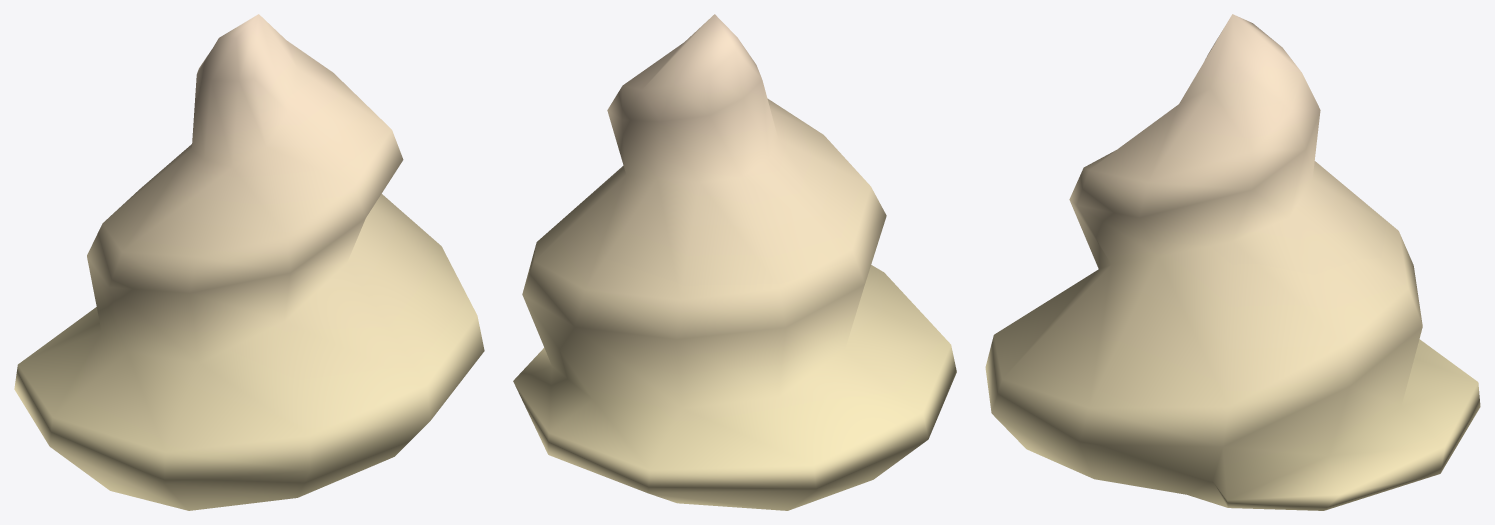
File: ShellD.fbx
The picture shows the model from 3 angles, left to right: view 1: azimuth 30°, elevation 25°; view 2: azimuth 150°, elevation 25°; view 3: azimuth 270°, elevation 25°; orthographic projection. The views are drawn at different scales.
Parts seen in each view (by area): view 1: ShellD; view 2: ShellD; view 3: ShellD.
Part boxes in pixels (x1,y1,x2,y2): ShellD: [14, 14, 484, 510]; ShellD: [513, 14, 956, 510]; ShellD: [985, 14, 1480, 510].
Bounding box in the file's own units: 27.31 × 28.4 × 27.02.
Materials: 1 (1 with a texture image).
